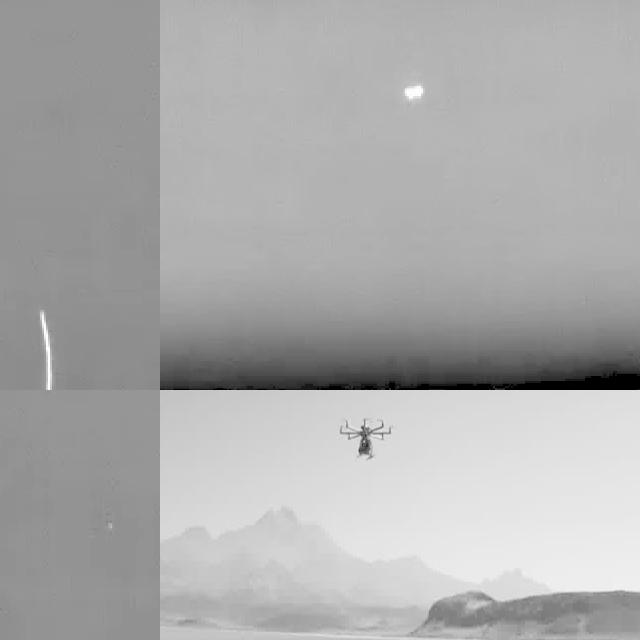0: (104, 513, 124, 541)
1: (398, 80, 434, 112)
drone: (336, 412, 395, 462)
